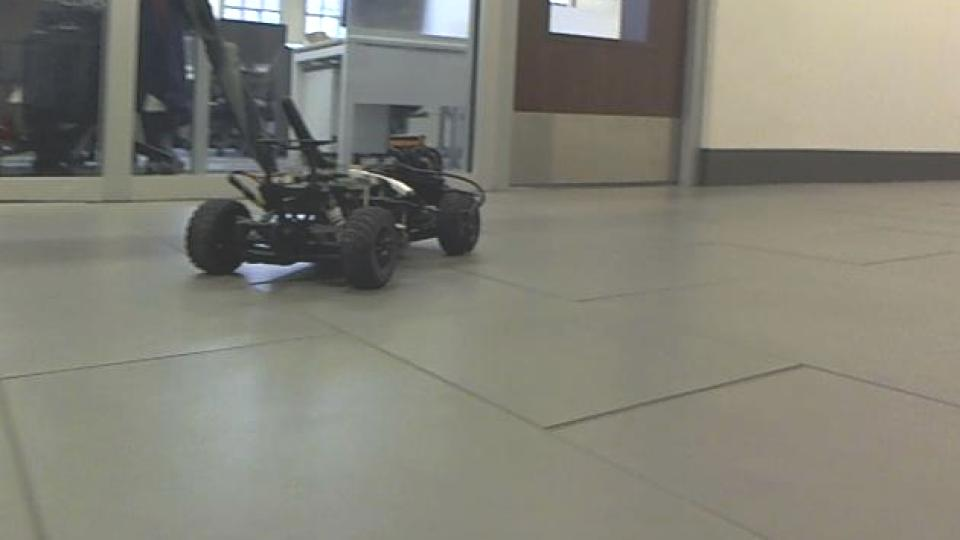car: (180, 92, 488, 291)
